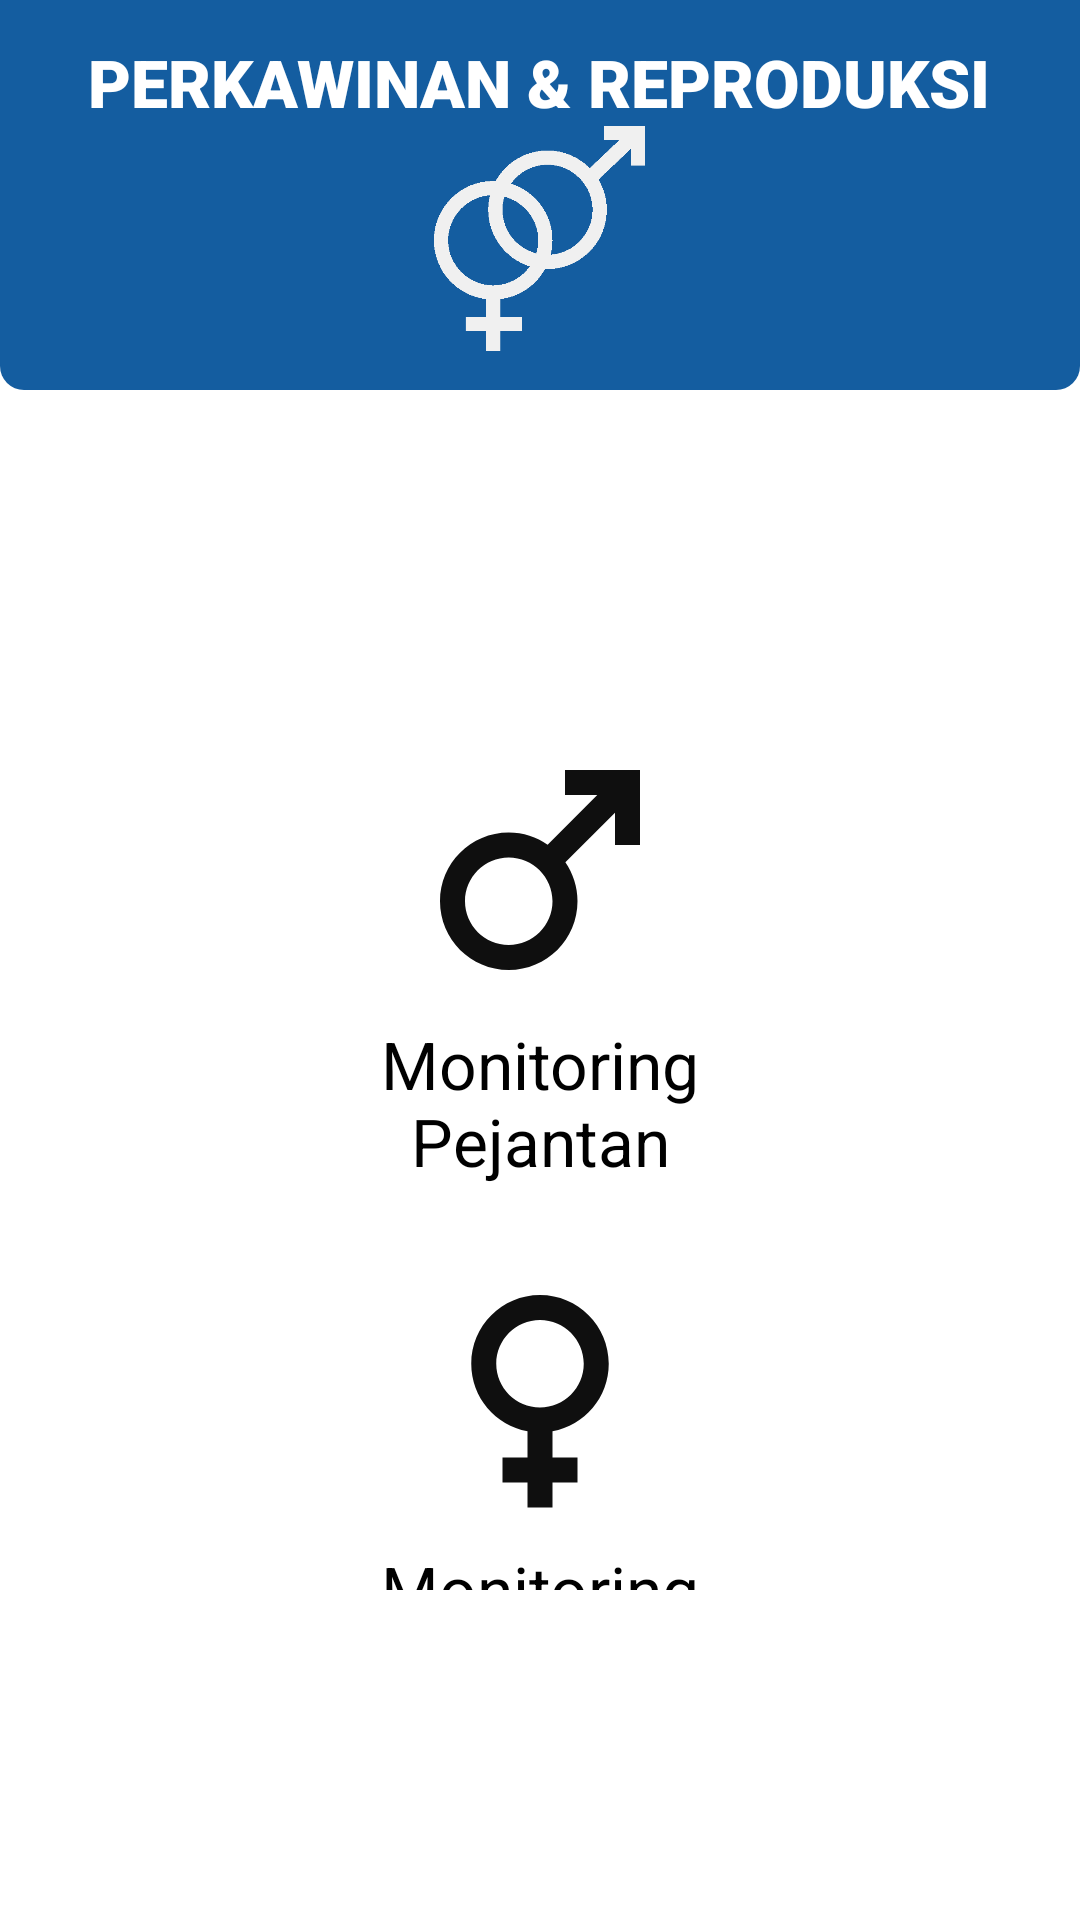

Where icons sit on this 1080w x 1920h app screen, as Rect(x1, y1, x2, y2):
female: Rect(471, 1295, 609, 1508)
gender: Rect(434, 126, 645, 351)
male: Rect(440, 770, 640, 970)
